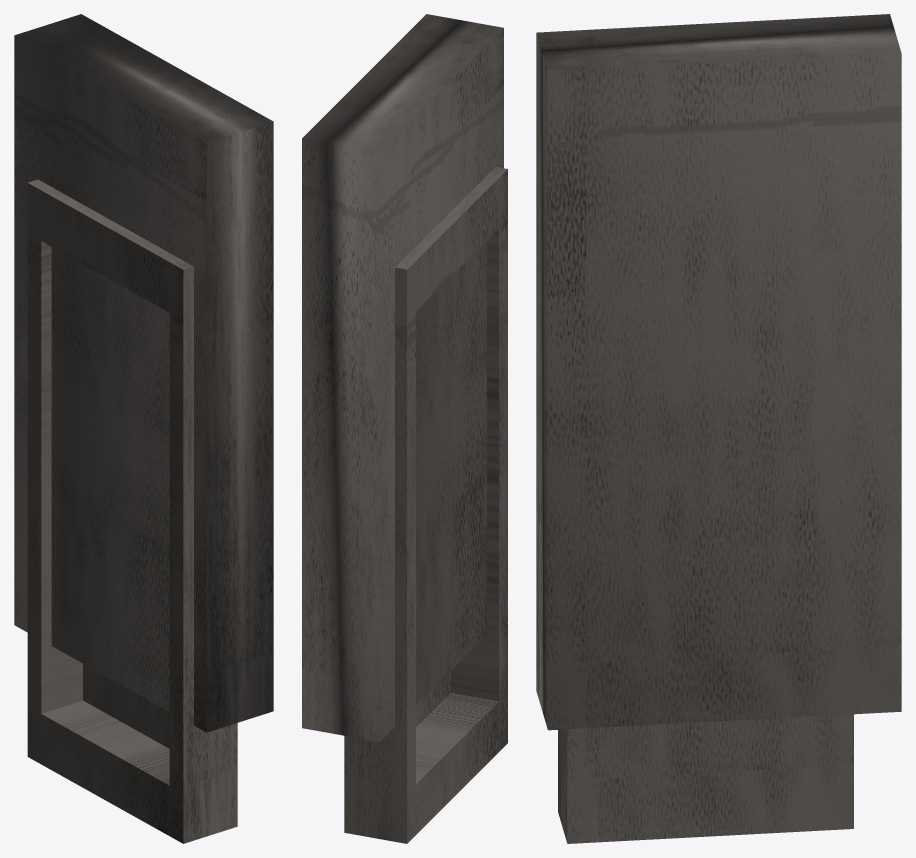
File: SM_cemframe.fbx
3 renders of one model, left to right at view 1: azimuth 30°, elevation 25°; view 2: azimuth 150°, elevation 25°; view 3: azimuth 270°, elevation 25°, orthographic. The views are drawn at different scales.
Visible parts, largest first — view 1: Cube.022; view 2: Cube.022; view 3: Cube.022.
Boxes of the visible parts, left/top/right/bottom form: Cube.022: left=14, top=14, right=273, bottom=843; Cube.022: left=302, top=14, right=507, bottom=843; Cube.022: left=536, top=14, right=901, bottom=843.
Bounding box in the file's own units: 57.61 × 342 × 144.
